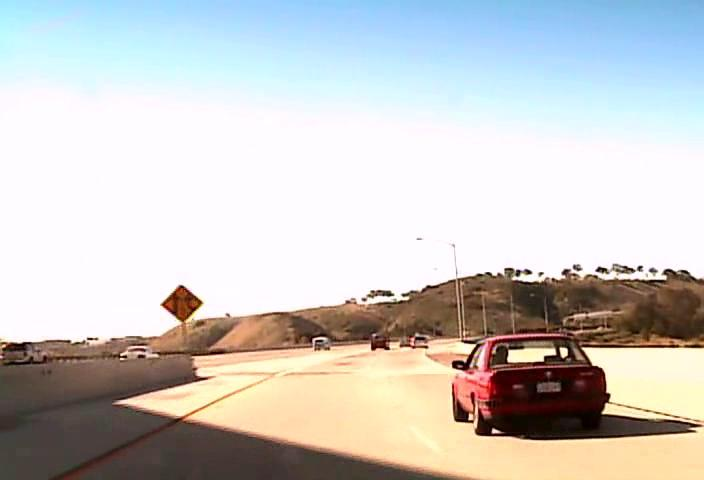addedLane: (159, 283, 203, 322)
